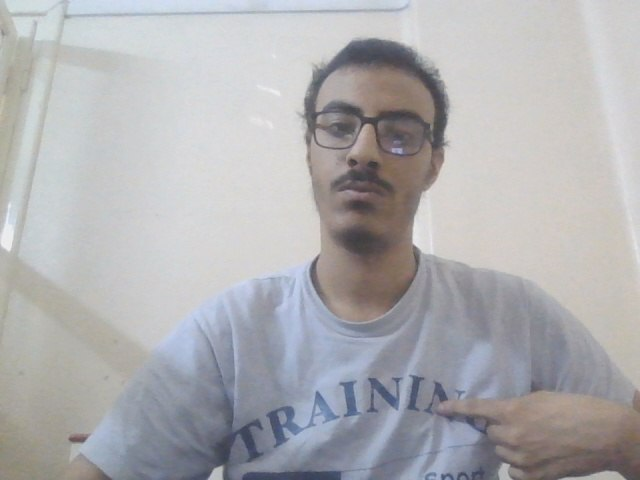Me: (431, 384, 633, 480)
